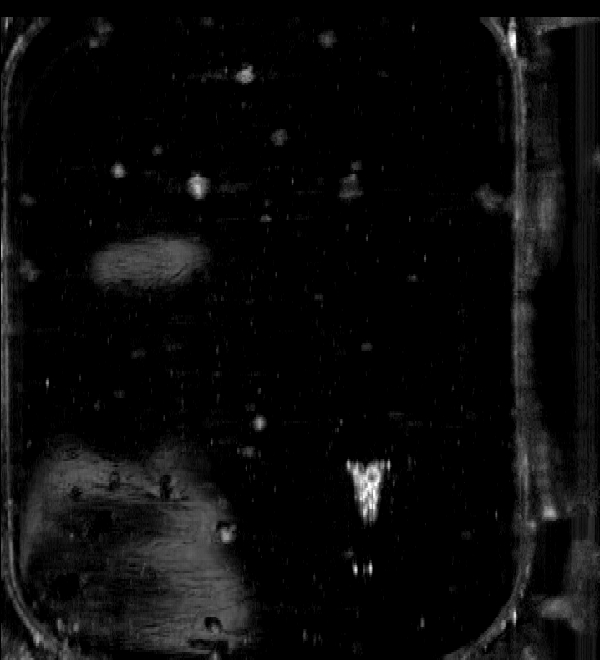mesh: (347, 459, 391, 524)
